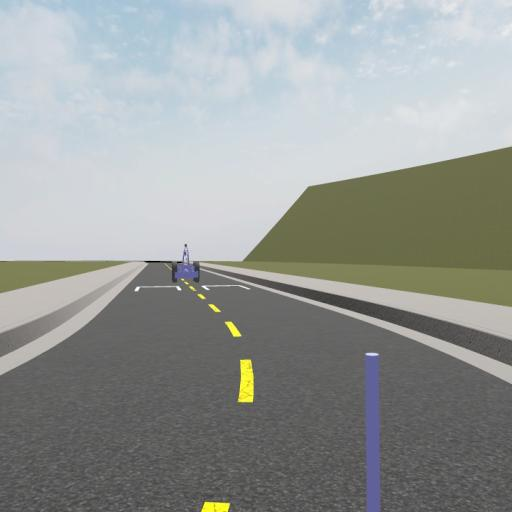ERP-42: (171, 245, 200, 283)
